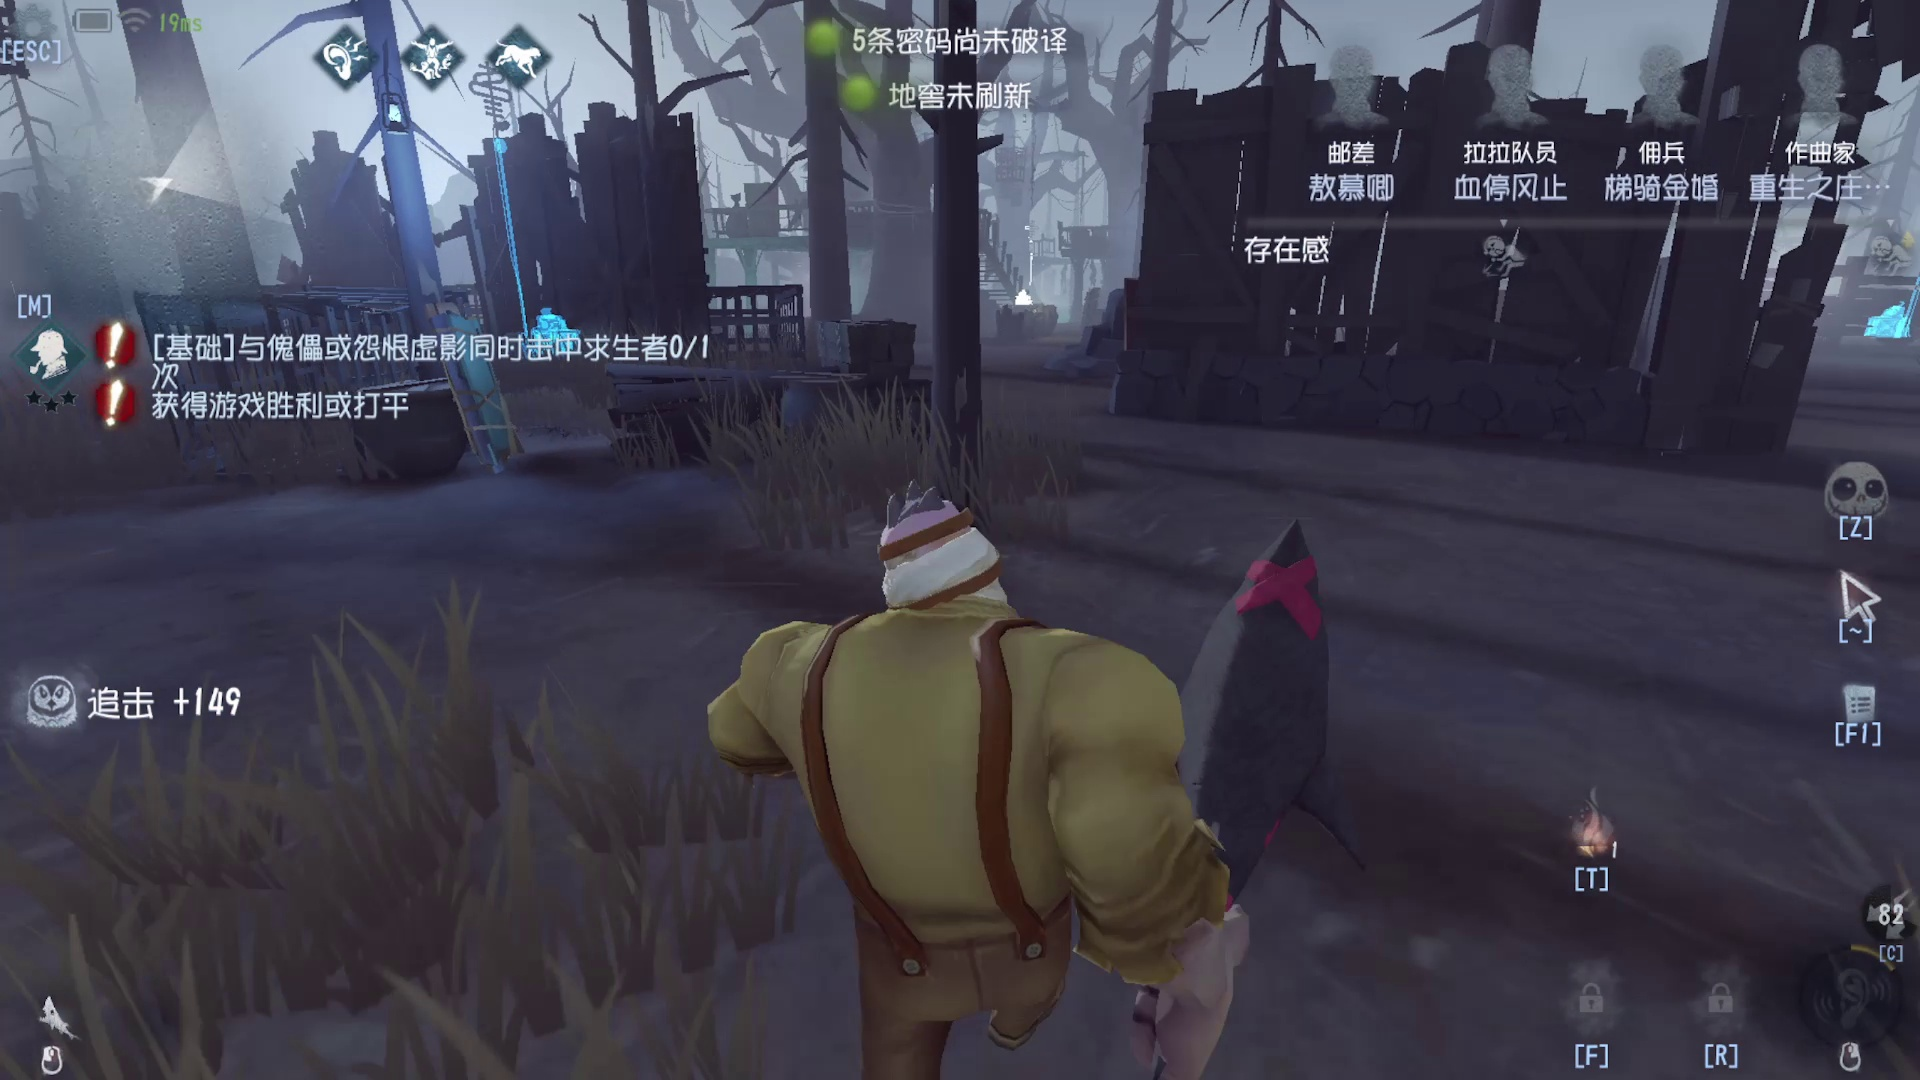密码机: (446, 98, 625, 375), (1840, 214, 1917, 388), (986, 211, 1076, 324)
木板: (393, 281, 558, 491)
